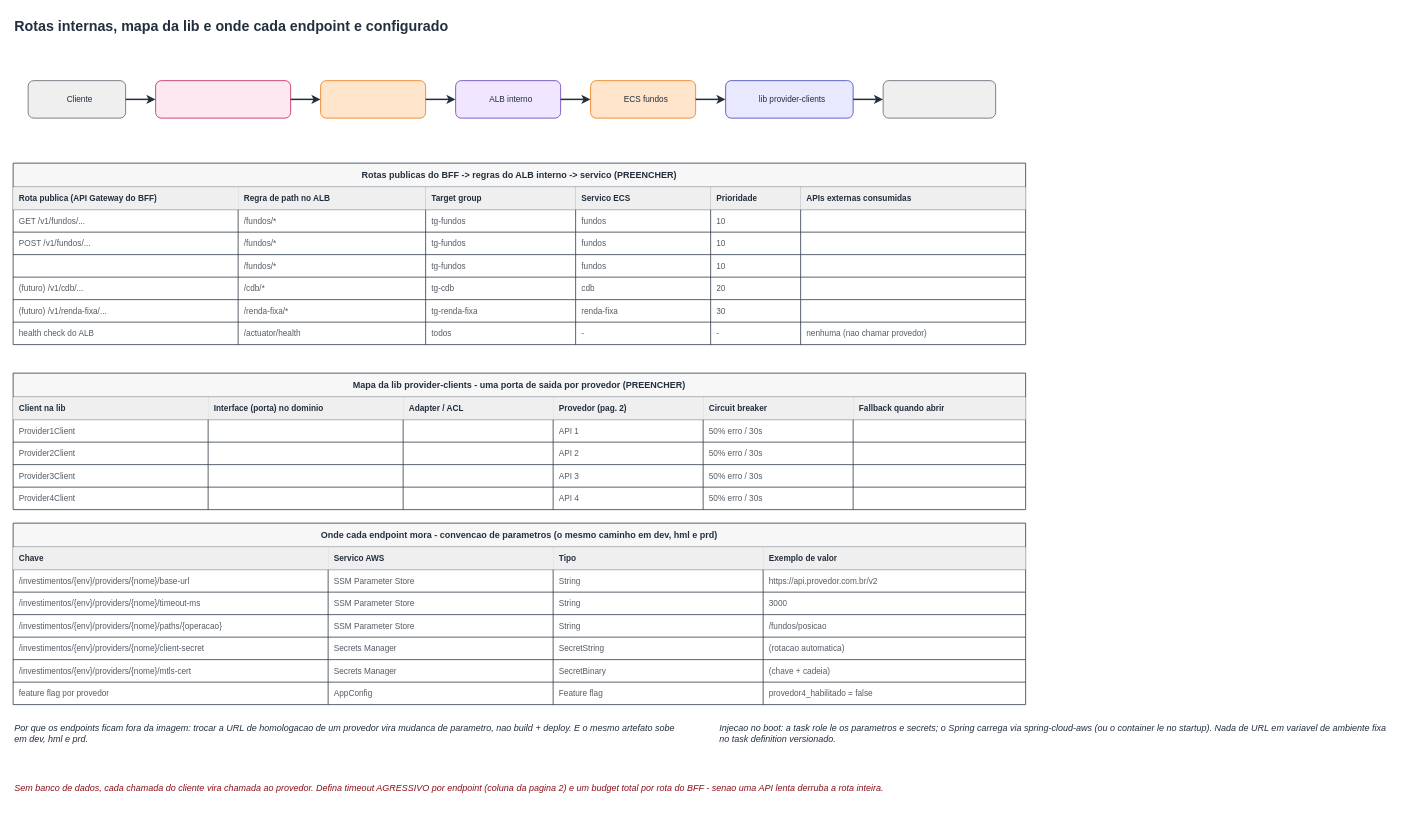
Some shapes in this 1406 by 828 pixel diagram are drawn without their labels. The shapes that lost their labels are listed below. From the top down, each one's centre as x and y in pixels, then its label:
At pixel 223 99: "API Gateway do BFF".
At pixel 373 99: "BFF (ECS)".
At pixel 939 99: "4 APIs externas".
